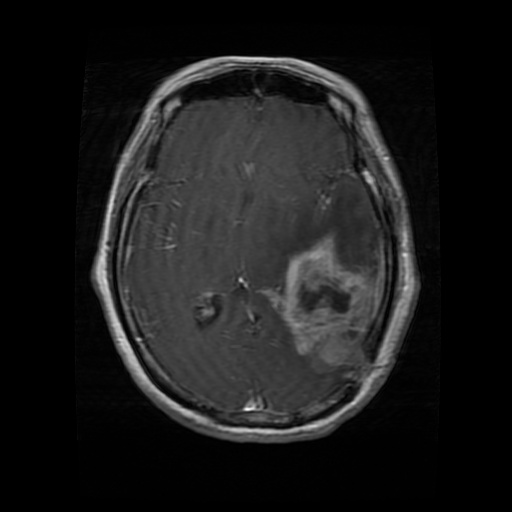glioma: (261, 229, 386, 383)
